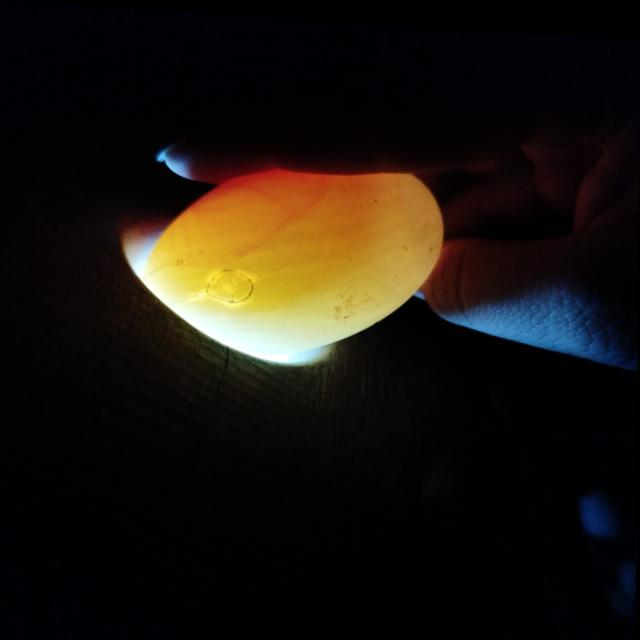Rachadura: (208, 267, 254, 298)
